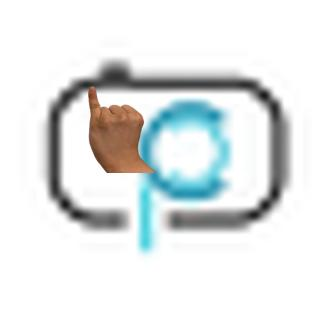FINE: (84, 84, 150, 169)
